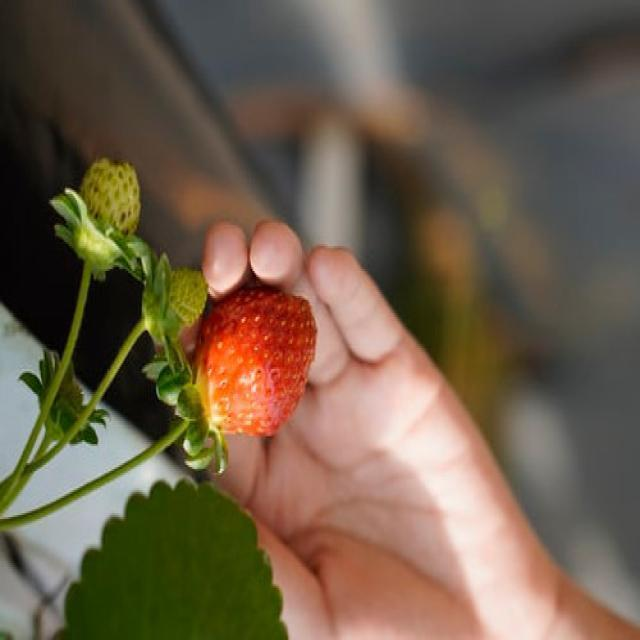Strawberry: (191, 286, 318, 438), (82, 154, 140, 250), (142, 266, 207, 341)
